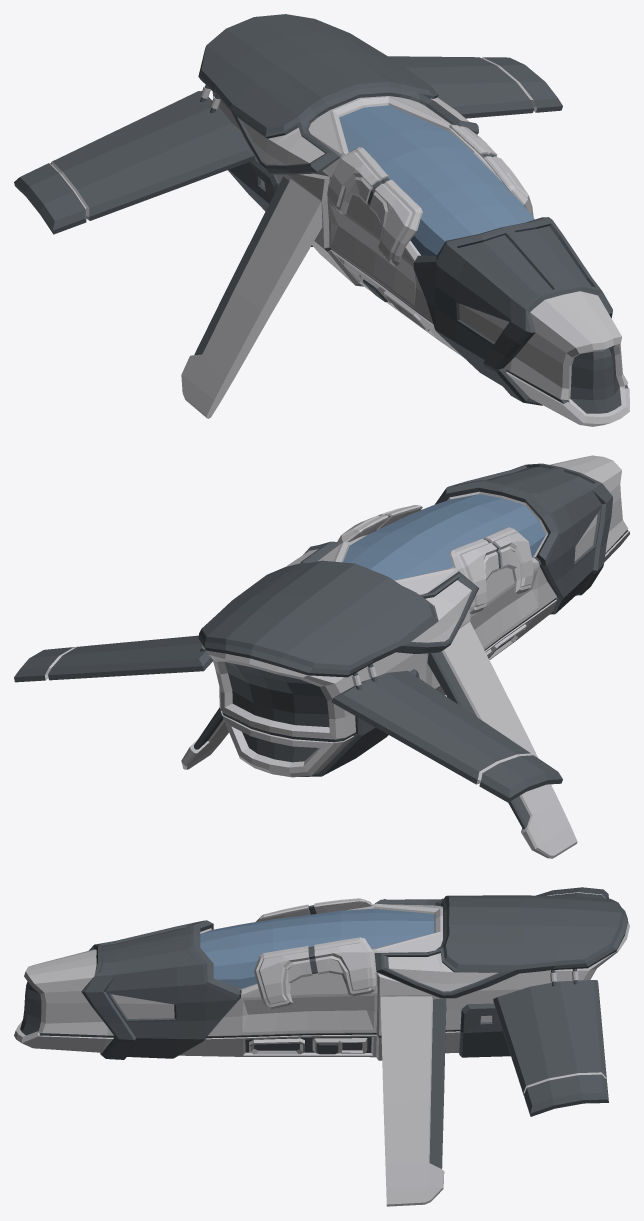
The model's file is Fighter_06_Neutral.fbx.
3 renders of one model, top to bottom at view 1: azimuth 30°, elevation 25°; view 2: azimuth 150°, elevation 25°; view 3: azimuth 270°, elevation 25°, orthographic. The views are drawn at different scales.
Parts seen in each view (by area): view 1: Fighter_06_Neutral; view 2: Fighter_06_Neutral; view 3: Fighter_06_Neutral.
Part boxes in pixels (left/top/right/bottom): Fighter_06_Neutral: left=14, top=14, right=629, bottom=426; Fighter_06_Neutral: left=14, top=455, right=629, bottom=858; Fighter_06_Neutral: left=14, top=887, right=629, bottom=1206.
Bounding box in the file's own units: 1051 × 517 × 1291.
3 materials, 3 textured.
